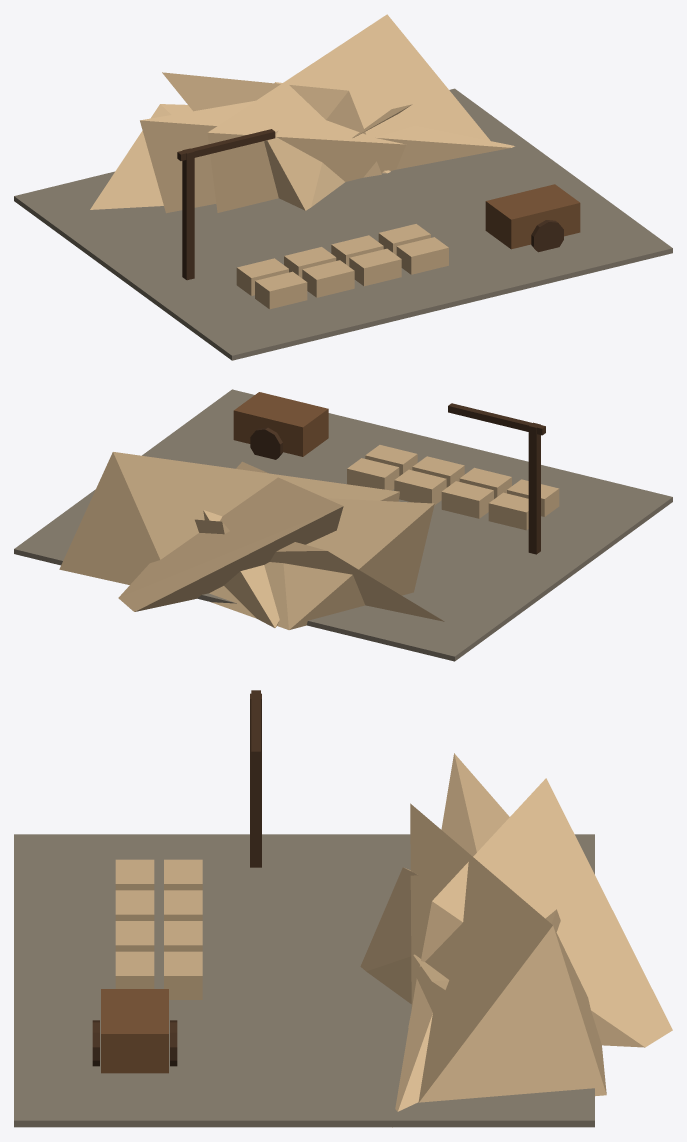
File: quarry.glb
3 renders of one model, top to bottom at view 1: azimuth 30°, elevation 25°; view 2: azimuth 150°, elevation 25°; view 3: azimuth 270°, elevation 25°, orthographic. The views are drawn at different scales.
Visible parts, largest first — view 1: Quarry; view 2: Quarry; view 3: Quarry.
Boxes of the visible parts, <box> form: Quarry: <box>14,14,672,360</box>; Quarry: <box>14,389,672,661</box>; Quarry: <box>14,690,672,1127</box>.
Size of the model in its own units: 14.01 by 4 by 13.61.
